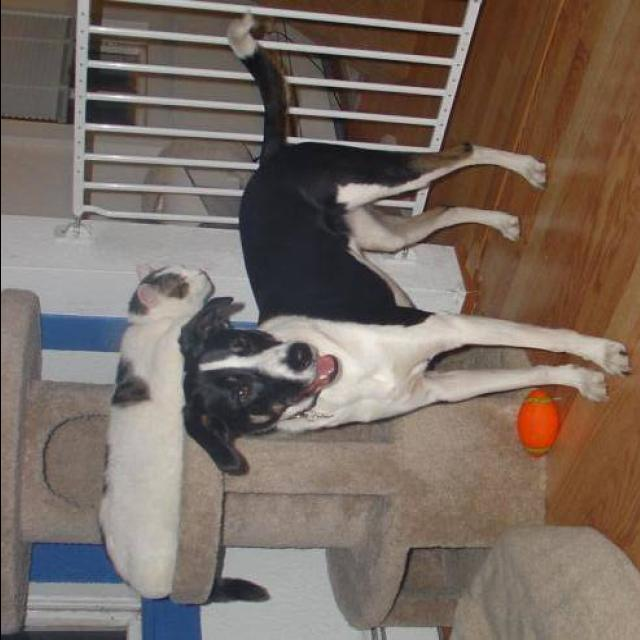dog: (144, 21, 640, 475)
